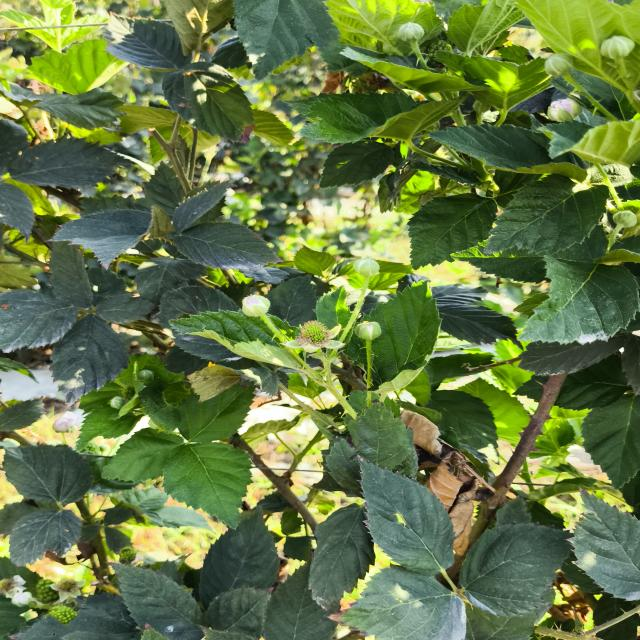boton: (547, 98, 582, 122), (600, 36, 635, 59), (545, 54, 573, 76), (242, 295, 270, 317), (352, 258, 379, 277), (398, 22, 424, 41), (355, 321, 381, 340), (613, 210, 636, 228), (110, 396, 126, 410), (138, 369, 155, 382)
